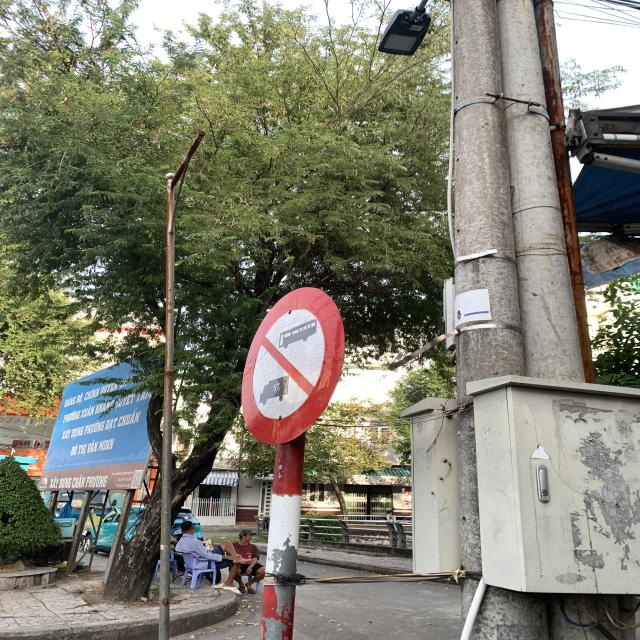Cam_XeTai_XeKhach: (244, 290, 346, 441)
